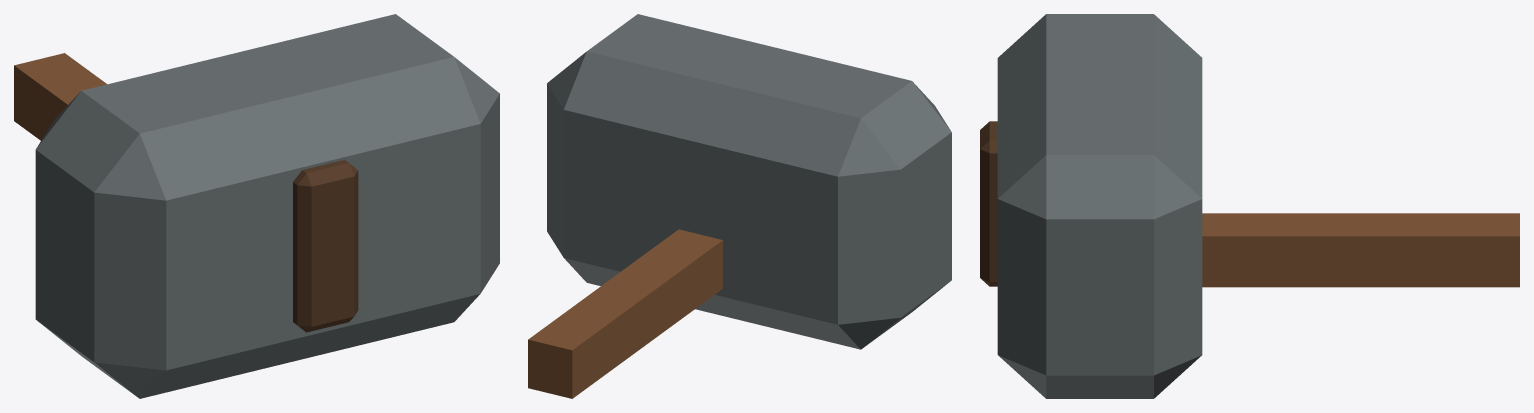
The model's file is stone_hammer.glb.
3 renders of one model, left to right at view 1: azimuth 30°, elevation 25°; view 2: azimuth 150°, elevation 25°; view 3: azimuth 270°, elevation 25°, orthographic. The views are drawn at different scales.
Visible parts, largest first — view 1: stone_hammer; view 2: stone_hammer; view 3: stone_hammer.
Part boxes in pixels (left/top/right/bottom): stone_hammer: left=14, top=14, right=499, bottom=398; stone_hammer: left=528, top=14, right=951, bottom=398; stone_hammer: left=980, top=14, right=1519, bottom=398.
Size of the model in its own units: 0.8 by 0.5 by 1.
